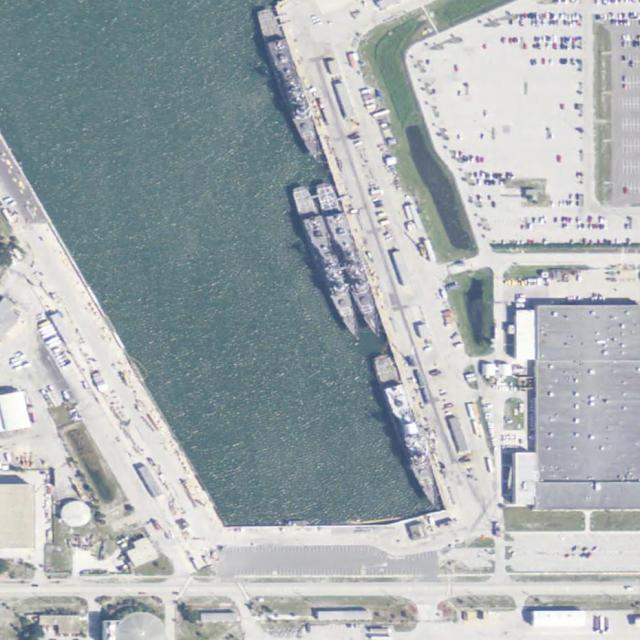Frigate: (314, 180, 385, 336), (290, 181, 360, 338), (372, 352, 440, 507), (257, 8, 323, 162)
